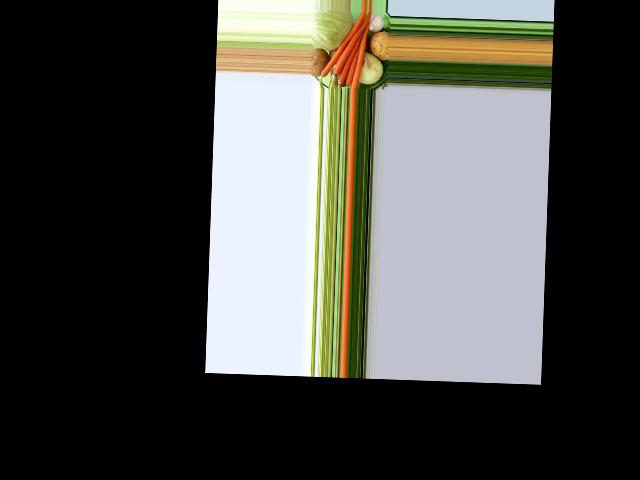carrot: (350, 14, 372, 89)
